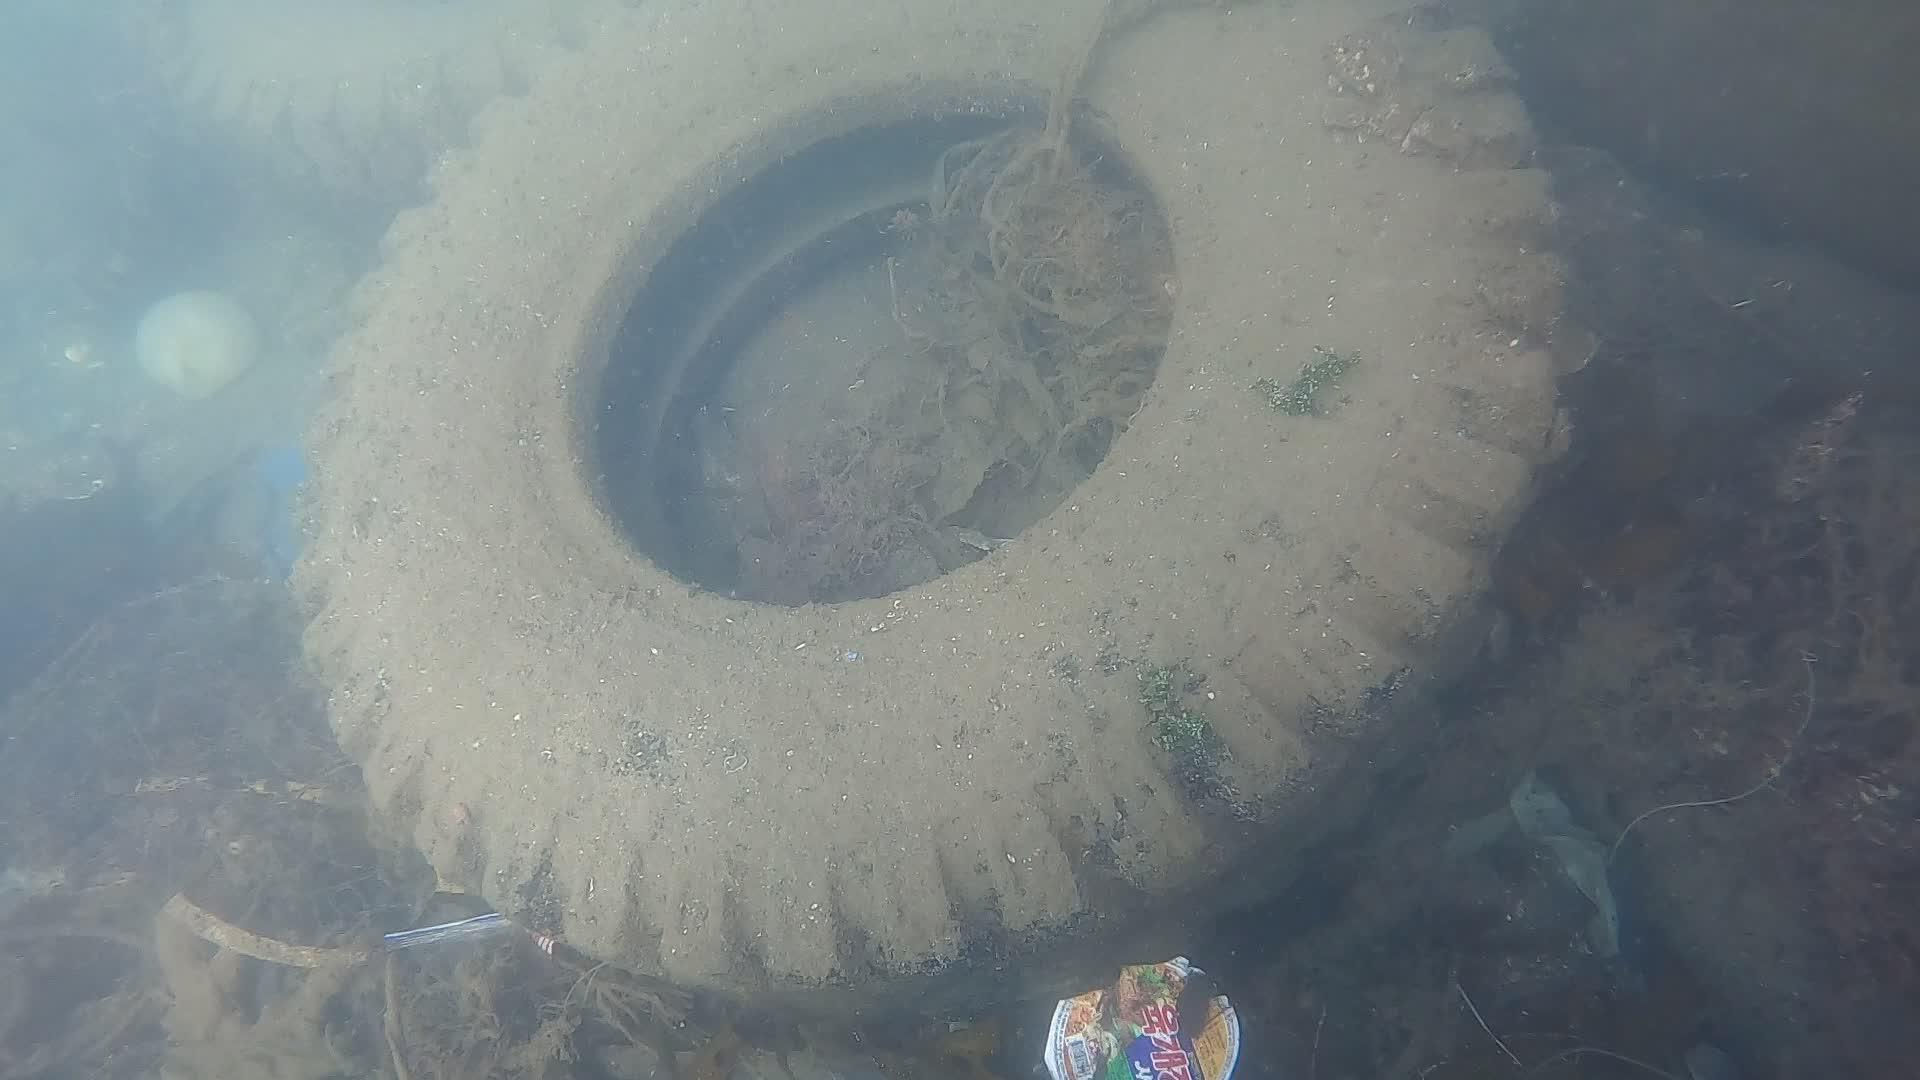tire: (289, 0, 1567, 996)
